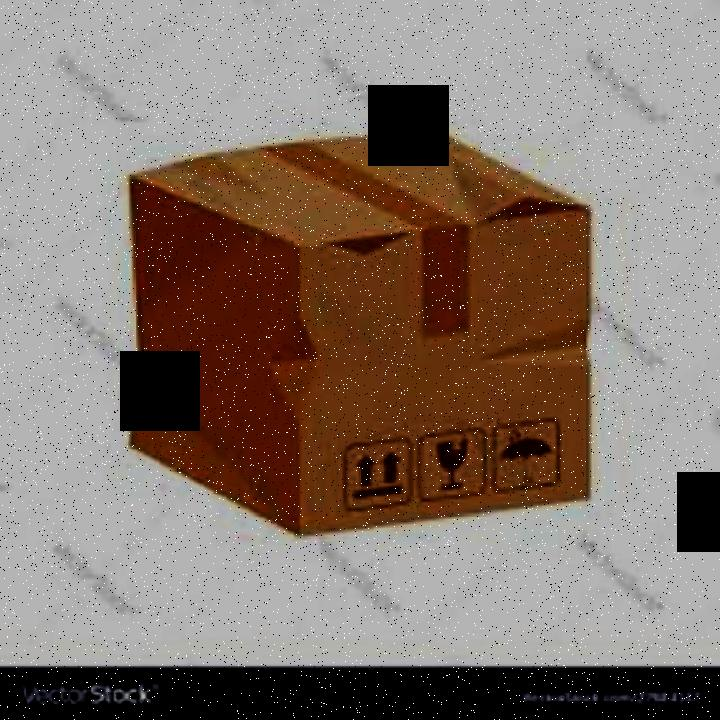box: (118, 118, 600, 548)
